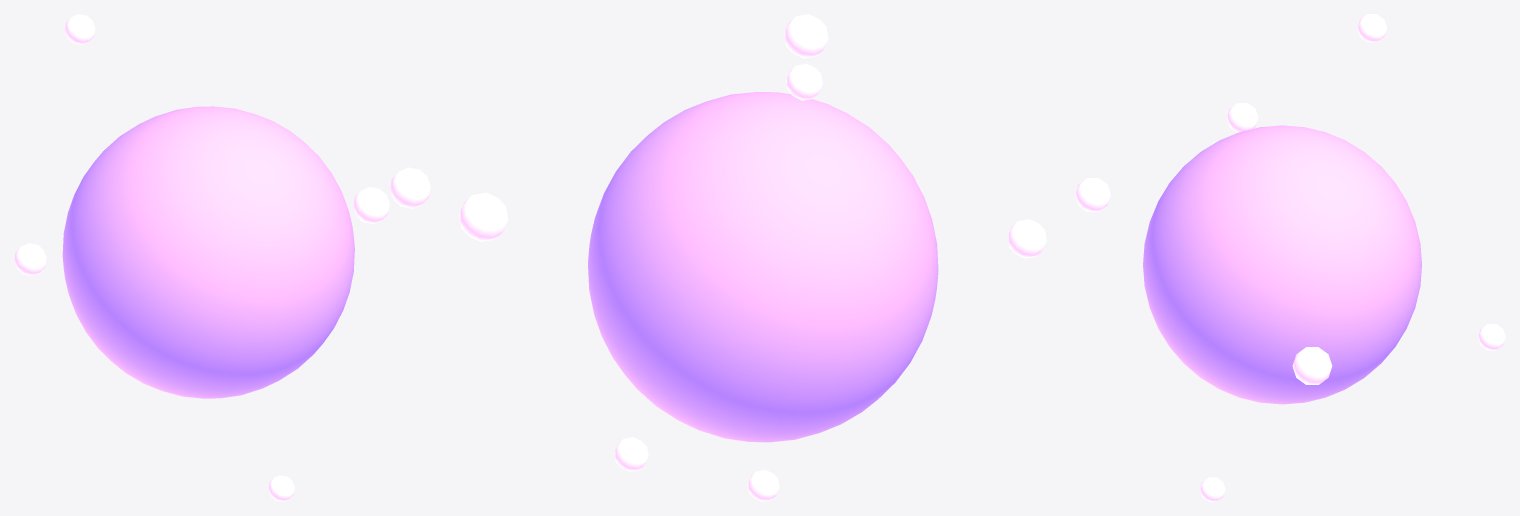
File: crystal-ball-lightning.glb
3 renders of one model, left to right at view 1: azimuth 30°, elevation 25°; view 2: azimuth 150°, elevation 25°; view 3: azimuth 270°, elevation 25°, orthographic. The views are drawn at different scales.
Visible parts, largest first — view 1: CrystalBallLightning_Core, CrystalBallLightning_Particle_01, CrystalBallLightning_Particle_04, CrystalBallLightning_Particle_02, CrystalBallLightning_Particle_05, CrystalBallLightning_Particle_06; view 2: CrystalBallLightning_Core, CrystalBallLightning_Particle_01, CrystalBallLightning_Particle_04, CrystalBallLightning_Particle_02, CrystalBallLightning_Particle_05, CrystalBallLightning_Particle_03, CrystalBallLightning_Particle_06; view 3: CrystalBallLightning_Core, CrystalBallLightning_Particle_01, CrystalBallLightning_Particle_04, CrystalBallLightning_Particle_02, CrystalBallLightning_Particle_05, CrystalBallLightning_Particle_03, CrystalBallLightning_Particle_06.
Part boxes in pixels (box(x1,y1,x2,y2)): CrystalBallLightning_Core: box(62, 106, 354, 398); CrystalBallLightning_Particle_01: box(390, 167, 430, 208); CrystalBallLightning_Particle_04: box(353, 187, 389, 223); CrystalBallLightning_Particle_02: box(14, 243, 46, 275); CrystalBallLightning_Particle_05: box(65, 14, 95, 44); CrystalBallLightning_Particle_06: box(268, 475, 294, 501); CrystalBallLightning_Core: box(588, 92, 938, 442); CrystalBallLightning_Particle_01: box(459, 192, 507, 241); CrystalBallLightning_Particle_04: box(784, 14, 828, 58); CrystalBallLightning_Particle_02: box(1007, 219, 1046, 258); CrystalBallLightning_Particle_05: box(786, 63, 822, 100); CrystalBallLightning_Particle_03: box(614, 437, 648, 471); CrystalBallLightning_Particle_06: box(747, 469, 779, 501); CrystalBallLightning_Core: box(1143, 125, 1421, 404); CrystalBallLightning_Particle_01: box(1292, 347, 1332, 384); CrystalBallLightning_Particle_04: box(1075, 178, 1110, 211); CrystalBallLightning_Particle_02: box(1227, 103, 1258, 132); CrystalBallLightning_Particle_05: box(1357, 14, 1386, 42); CrystalBallLightning_Particle_03: box(1478, 324, 1505, 350); CrystalBallLightning_Particle_06: box(1199, 477, 1225, 501).
Size of the model in its own units: 0.9885 by 0.956 by 0.864.
